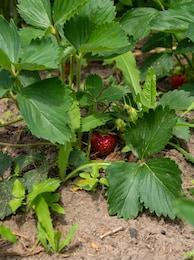Fresa: (85, 125, 118, 157)
